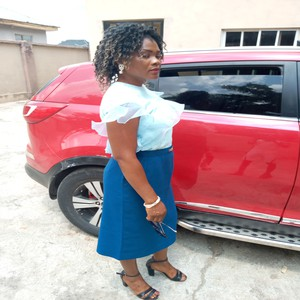Fulokoja_female_student: (101, 26, 182, 286)
